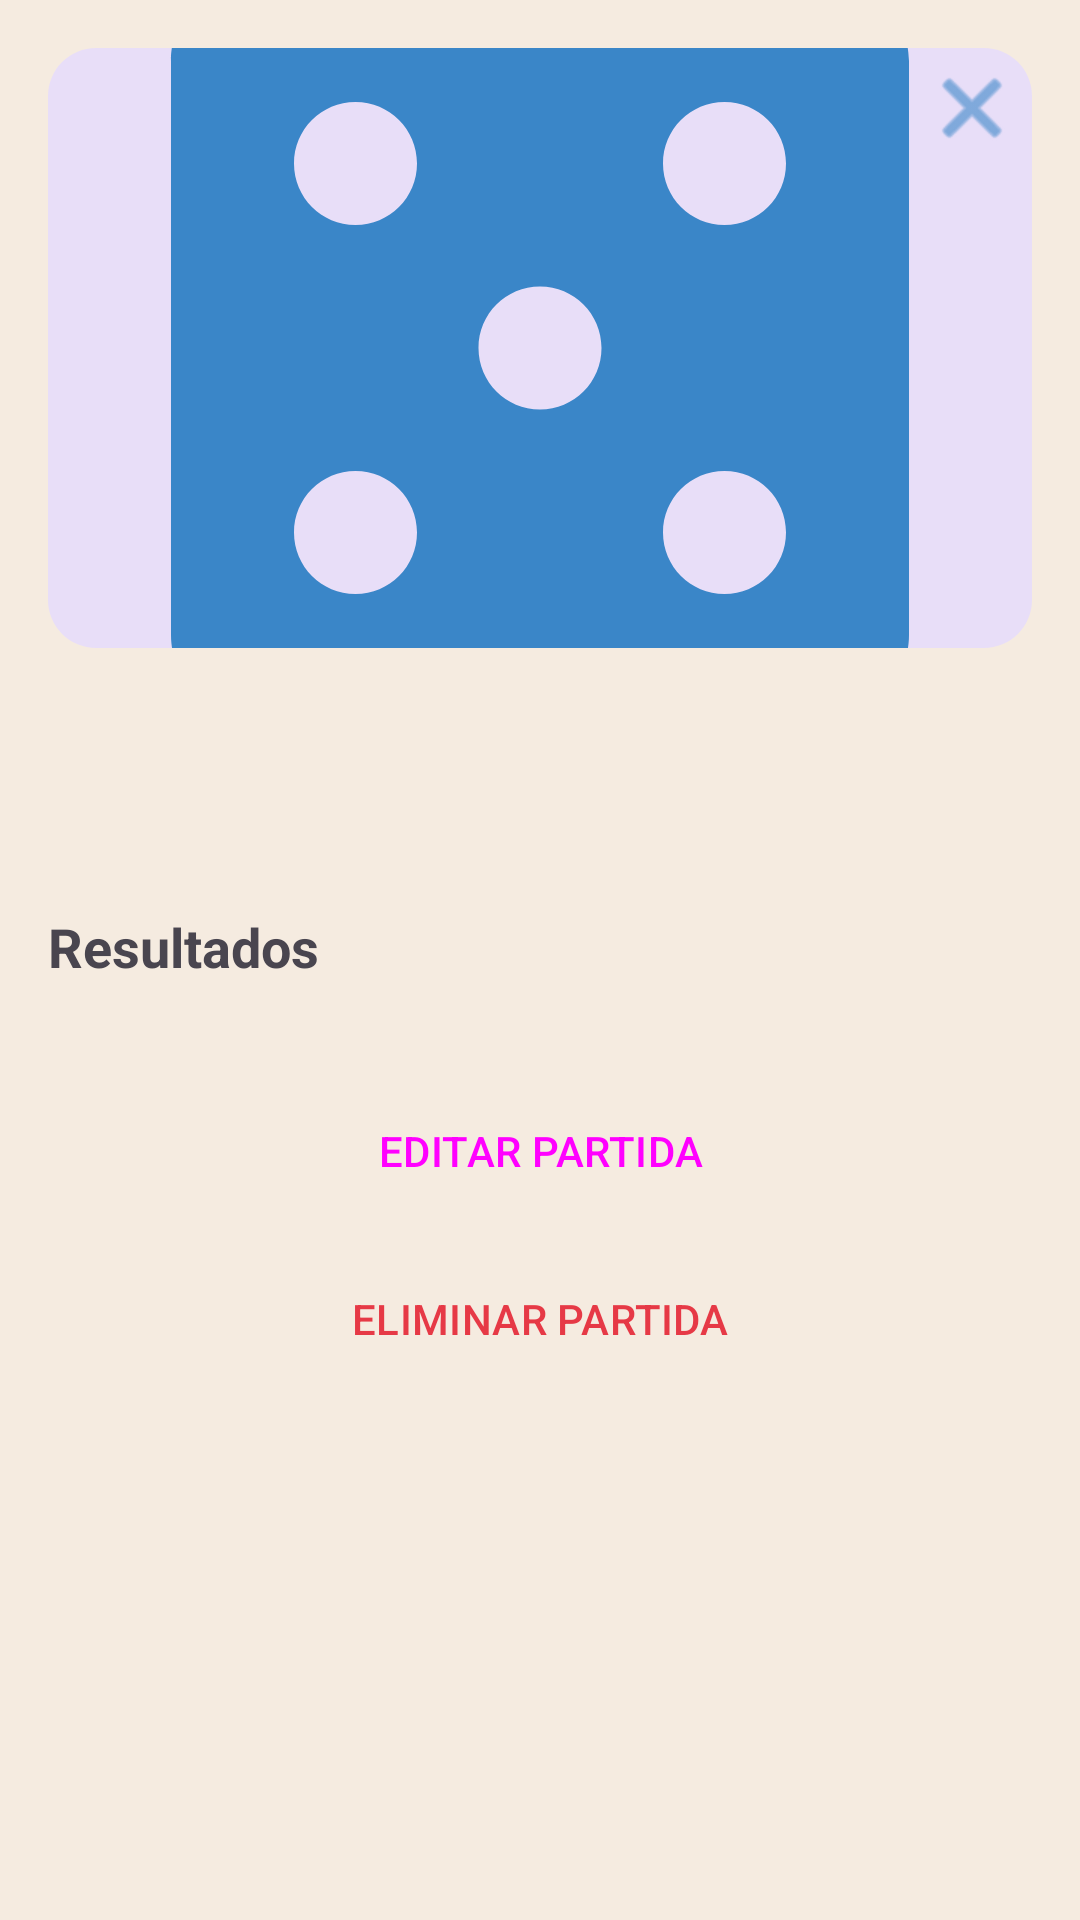

Where to tap for icons on this 1080 × 1920 app screen, as (x,y):
Cerrar: (972,108)
